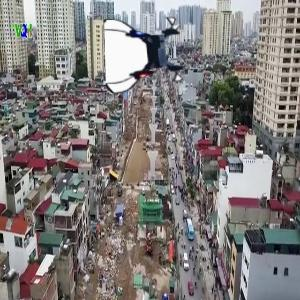drone: (106, 13, 189, 96)
